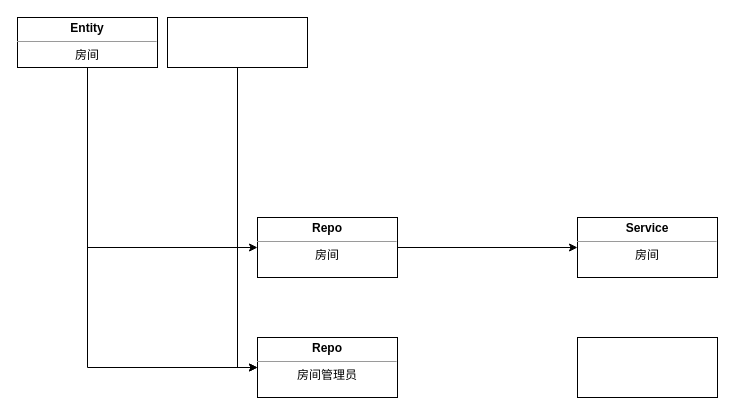
Some shapes in this 735 by 415 pixel diagram are drawn without their labels. Each missing label, with the centre of its shape:
"Entity 房间成员" goes at pixel 237 42.
"Service 房间管理员" goes at pixel 647 367.
